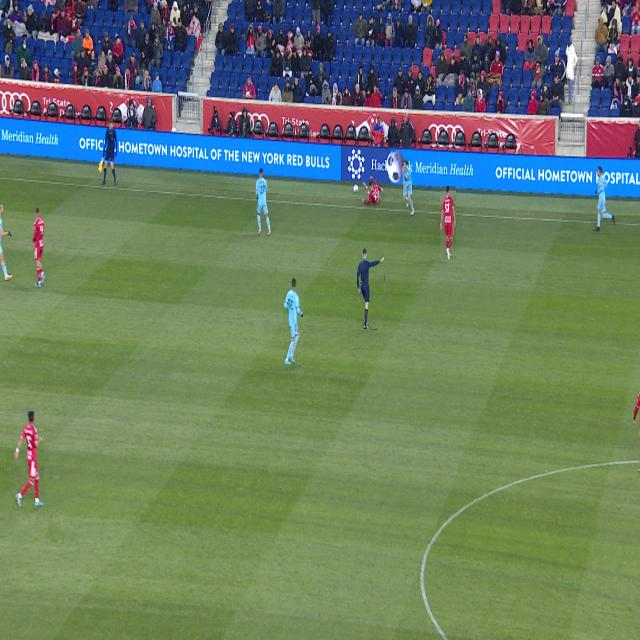player: (14, 411, 44, 508), (284, 279, 303, 365), (594, 167, 615, 231), (440, 187, 456, 260), (33, 207, 46, 287), (256, 168, 271, 236), (0, 203, 13, 280), (402, 160, 415, 215), (633, 392, 640, 424)
referee: (357, 248, 384, 329)
